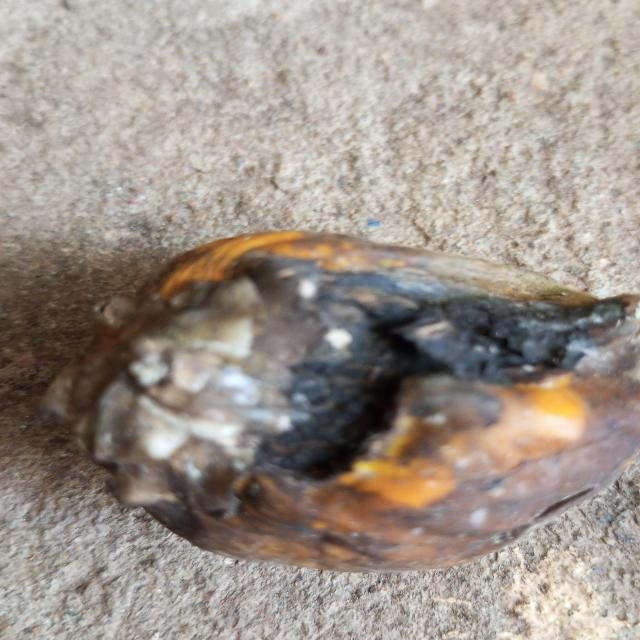damaged: (41, 231, 640, 571)
